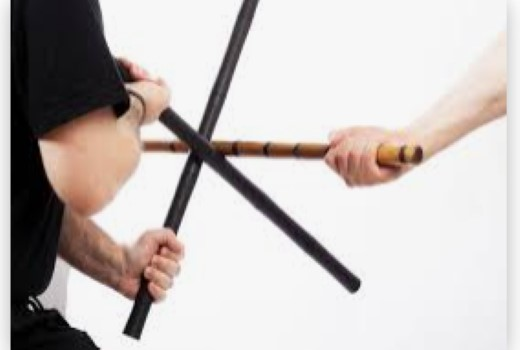baston_e: (144, 104, 334, 251), (171, 5, 256, 236), (146, 129, 324, 164)
baston_v: (395, 133, 431, 177), (112, 315, 151, 345), (338, 262, 365, 300), (127, 135, 157, 158)
